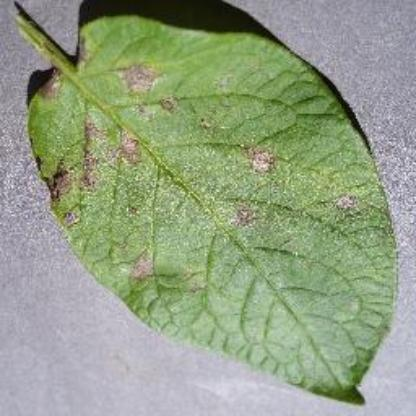Early-Blight: (15, 9, 400, 403)
